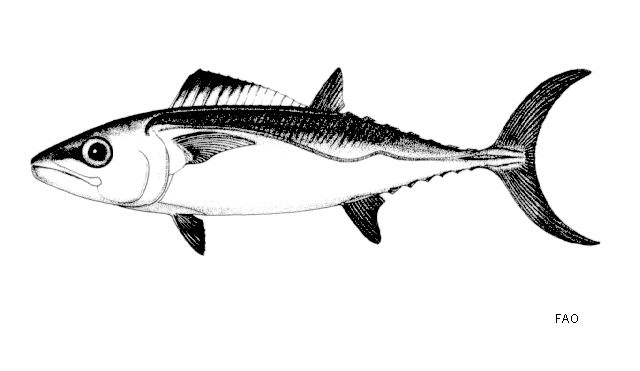fish: (30, 68, 601, 255)
